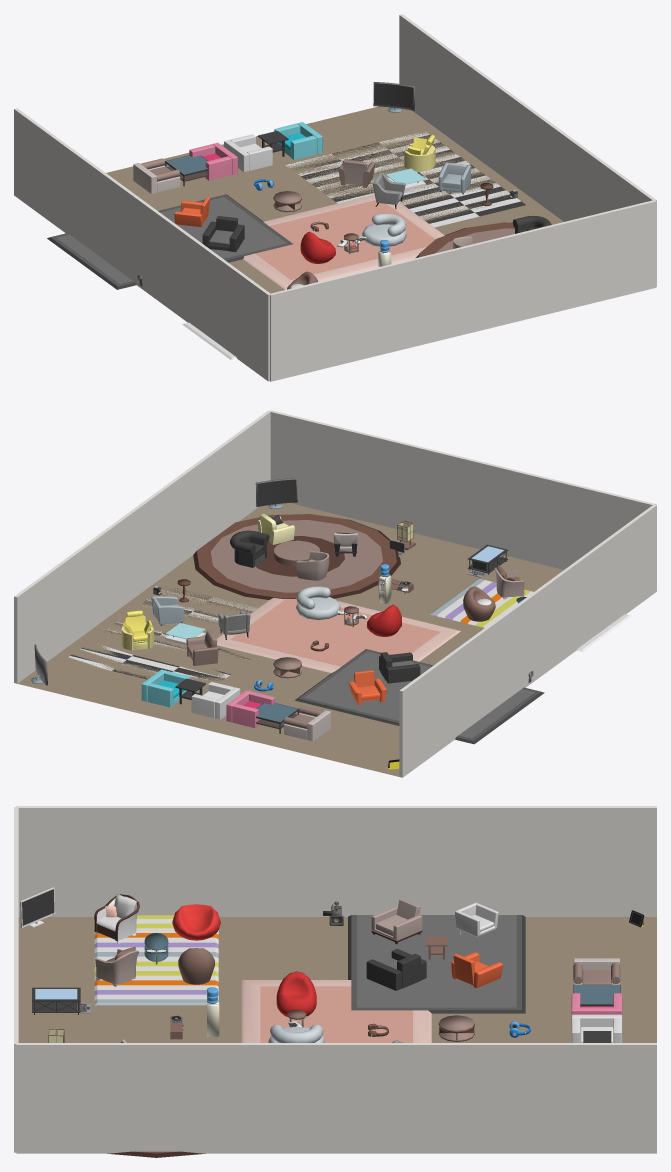
File: conference_room_01.glb
3 renders of one model, top to bottom at view 1: azimuth 30°, elevation 25°; view 2: azimuth 150°, elevation 25°; view 3: azimuth 270°, elevation 25°, orthographic. The views are drawn at different scales.
Visible parts, largest first — view 1: Room_Wall_Back, Room_Wall_Left, Room_Wall_Right, Room_Floor, carpet_007, carpet_006, carpet_004, carpet_003, armchair_022, armchair_014, armchair_002, armchair_021 (+11 smaller); view 2: Room_Floor, Room_Wall_Back, Room_Wall_Left, Room_Wall_Right, carpet_003, carpet_007, carpet_004, carpet_006, carpet_002, armchair_022, armchair_014, armchair_019 (+21 smaller); view 3: Room_Wall_Right, Room_Wall_Left, Room_Floor, carpet_004, carpet_007, carpet_002, armchair_002, armchair_010, armchair_001, Room_Wall_Back, armchair_005, armchair_007 (+14 smaller).
Boxes of the visible parts, left/top/right/bottom form: Room_Wall_Back: left=269, top=200, right=656, bottom=381; Room_Wall_Left: left=14, top=108, right=269, bottom=381; Room_Wall_Right: left=399, top=14, right=656, bottom=286; Room_Floor: left=106, top=106, right=563, bottom=293; carpet_007: left=243, top=194, right=444, bottom=289; carpet_006: left=285, top=131, right=525, bottom=227; carpet_004: left=47, top=194, right=292, bottom=289; carpet_003: left=415, top=222, right=514, bottom=258; armchair_022: left=274, top=122, right=322, bottom=159; armchair_014: left=133, top=158, right=180, bottom=193; armchair_002: left=202, top=216, right=244, bottom=252; armchair_021: left=224, top=134, right=272, bottom=171; Room_Floor: left=17, top=503, right=563, bottom=776; Room_Wall_Back: left=269, top=410, right=656, bottom=569; Room_Wall_Left: left=399, top=504, right=656, bottom=777; Room_Wall_Right: left=14, top=410, right=270, bottom=683; carpet_003: left=193, top=514, right=400, bottom=599; carpet_007: left=217, top=598, right=460, bottom=673; carpet_004: left=294, top=649, right=544, bottom=744; carpet_006: left=68, top=586, right=257, bottom=680; carpet_002: left=430, top=578, right=631, bottom=651; armchair_022: left=141, top=669, right=189, bottom=707; armchair_014: left=284, top=706, right=330, bottom=741; armchair_019: left=296, top=586, right=340, bottom=620; Room_Wall_Right: left=16, top=1043, right=656, bottom=1153; Room_Wall_Left: left=16, top=806, right=656, bottom=916; Room_Floor: left=18, top=917, right=656, bottom=1042; carpet_004: left=348, top=915, right=525, bottom=1013; carpet_007: left=241, top=980, right=431, bottom=1042; carpet_002: left=94, top=915, right=218, bottom=1005; armchair_002: left=366, top=948, right=426, bottom=990; armchair_010: left=94, top=893, right=139, bottom=943; armchair_001: left=371, top=899, right=422, bottom=944; Room_Wall_Back: left=14, top=807, right=18, bottom=1152; armchair_005: left=172, top=904, right=220, bottom=940; armchair_007: left=276, top=971, right=316, bottom=1016.
Bounding box in the file's own units: 15.07 × 3 × 16.06.
55 materials, 53 textured.
